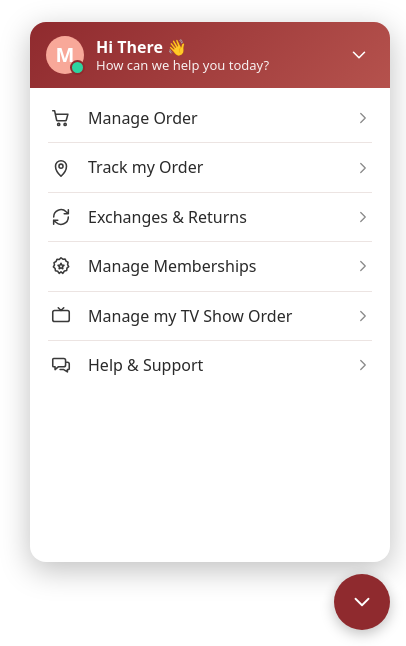
Test: the panel's views › starts on the menu, loads nothing there, and loads the conversation when Help & Support is chosen
This screenshot has width=406, height=646.
Expected: the navigation bar with class "mew-menu" is shown, [30, 88, 390, 407]
Click the button "Help & Support" at (146,365), box [48, 341, 372, 389]
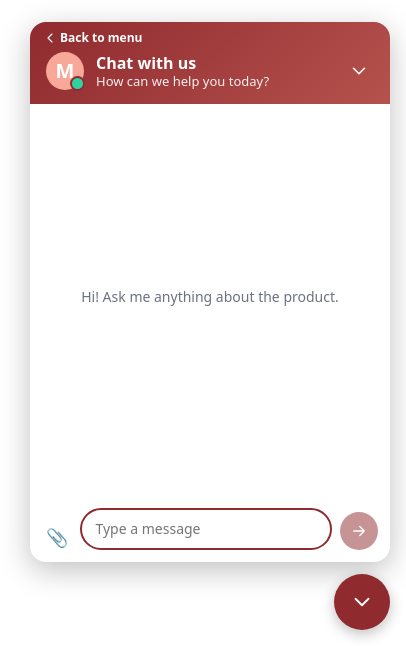
Expected: the navigation bar with class "mew-menu" is gone
Click the button "Back to menu" at (92,38), box [42, 30, 142, 47]
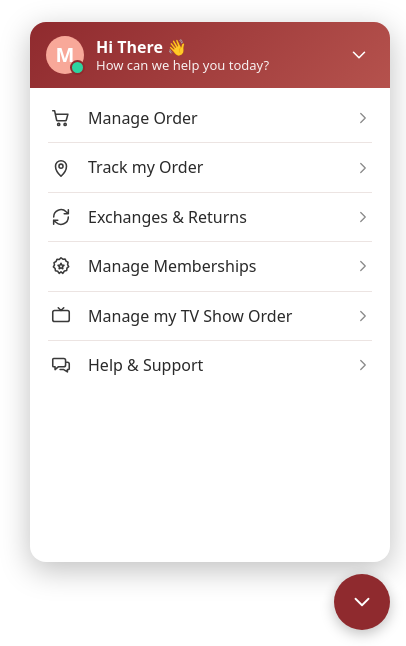
Expected: the navigation bar with class "mew-menu" is shown, [30, 88, 390, 407]
